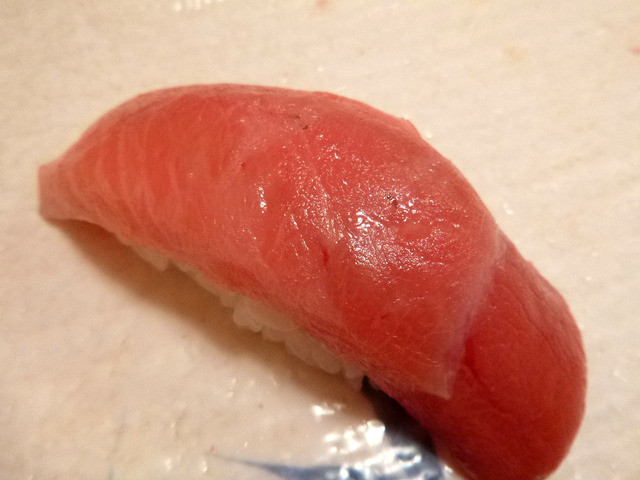medium_fatty_tuna: (38, 82, 591, 480)
